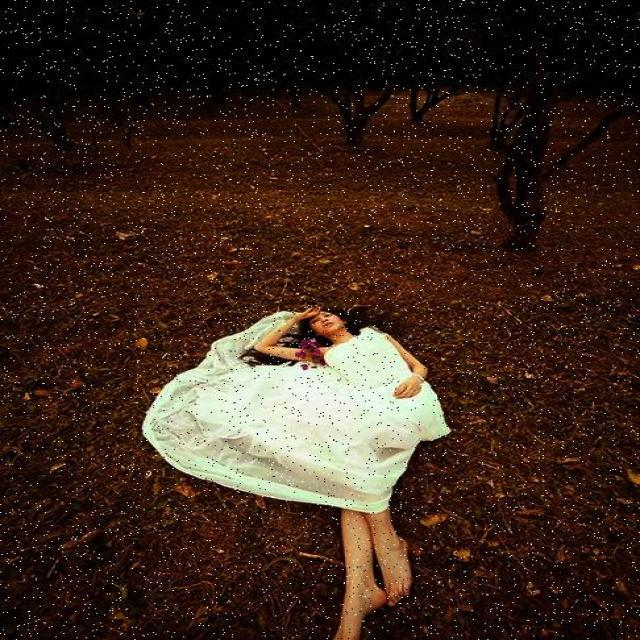fall: (232, 303, 445, 639)
